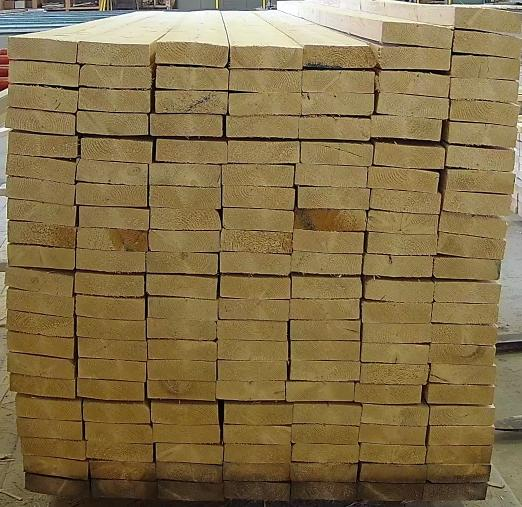Wood-Plank: (382, 17, 454, 49), (8, 84, 77, 113), (5, 267, 71, 297), (377, 70, 449, 97), (376, 92, 448, 119), (375, 142, 446, 169), (7, 177, 73, 206), (77, 159, 147, 186), (455, 30, 522, 58), (7, 156, 74, 184), (444, 121, 516, 147), (6, 291, 74, 318), (5, 109, 75, 135), (8, 132, 78, 158), (7, 199, 74, 226), (149, 163, 221, 188), (9, 60, 78, 86), (447, 145, 516, 171), (7, 333, 73, 360), (15, 395, 81, 422), (79, 64, 153, 88), (80, 41, 154, 65), (7, 354, 75, 380), (439, 233, 507, 259), (301, 143, 374, 167), (372, 115, 442, 140), (443, 191, 513, 216), (156, 65, 228, 89), (79, 89, 151, 113), (223, 208, 295, 232), (444, 169, 516, 193), (379, 47, 451, 71), (369, 167, 438, 192), (75, 272, 144, 297), (8, 222, 74, 248), (7, 244, 73, 270), (7, 311, 73, 337), (442, 214, 508, 240), (6, 37, 77, 61), (450, 101, 518, 126), (81, 138, 151, 162), (77, 113, 149, 136), (372, 190, 441, 214), (75, 296, 144, 320), (220, 252, 292, 275), (77, 228, 146, 252), (228, 141, 300, 164), (303, 46, 375, 69), (157, 42, 229, 65), (456, 6, 522, 31), (76, 185, 147, 208), (231, 46, 302, 69), (300, 118, 370, 141), (365, 279, 435, 302), (369, 211, 439, 234), (148, 299, 218, 322), (219, 299, 289, 322), (221, 230, 291, 253), (79, 208, 149, 231), (156, 141, 226, 164), (223, 188, 296, 210), (10, 375, 74, 400), (297, 165, 366, 188), (293, 252, 362, 275), (221, 276, 290, 299), (76, 250, 145, 273), (151, 208, 220, 231), (453, 55, 519, 79), (150, 115, 222, 137), (303, 93, 375, 115), (155, 92, 227, 114), (146, 277, 218, 299), (452, 79, 520, 102), (434, 258, 502, 281), (303, 71, 374, 93), (227, 116, 298, 138), (147, 253, 218, 275), (229, 70, 303, 91), (151, 403, 218, 426), (368, 233, 438, 255), (294, 232, 364, 254), (229, 95, 302, 116), (83, 402, 149, 425), (76, 318, 145, 340), (298, 189, 370, 210), (78, 339, 146, 361), (20, 438, 85, 461), (23, 457, 88, 480), (25, 475, 90, 498), (225, 405, 292, 427), (78, 361, 145, 383), (150, 188, 220, 209), (436, 282, 502, 304), (365, 256, 434, 277), (296, 210, 365, 231), (292, 279, 361, 300), (148, 341, 217, 362), (149, 231, 218, 252), (363, 303, 431, 324), (147, 361, 215, 382), (218, 342, 289, 362), (361, 444, 425, 466), (363, 406, 430, 427), (77, 380, 144, 401), (291, 321, 361, 341), (223, 166, 293, 186), (156, 445, 222, 466), (363, 344, 429, 365), (294, 406, 360, 427), (85, 424, 151, 445), (363, 324, 432, 344), (291, 342, 360, 362), (218, 362, 287, 382), (16, 421, 81, 442), (156, 463, 221, 484), (86, 442, 151, 463), (361, 425, 426, 446), (431, 406, 496, 427), (147, 321, 215, 341), (224, 445, 291, 465), (428, 386, 495, 406), (362, 365, 429, 385), (287, 383, 354, 403), (291, 301, 361, 320), (216, 382, 286, 401), (291, 363, 360, 382), (218, 322, 287, 341), (430, 427, 495, 447), (430, 365, 495, 385), (433, 305, 498, 325), (224, 427, 292, 446), (147, 382, 215, 401), (293, 427, 360, 446), (433, 326, 496, 346), (158, 484, 224, 503), (356, 386, 422, 405), (224, 484, 289, 503), (362, 466, 426, 485), (431, 347, 495, 366), (291, 465, 358, 483), (91, 482, 157, 500), (359, 485, 425, 503), (89, 464, 155, 482), (293, 446, 359, 464), (153, 426, 219, 444), (425, 484, 489, 502), (428, 467, 492, 485), (429, 447, 492, 465), (292, 484, 357, 501), (224, 465, 289, 482)
